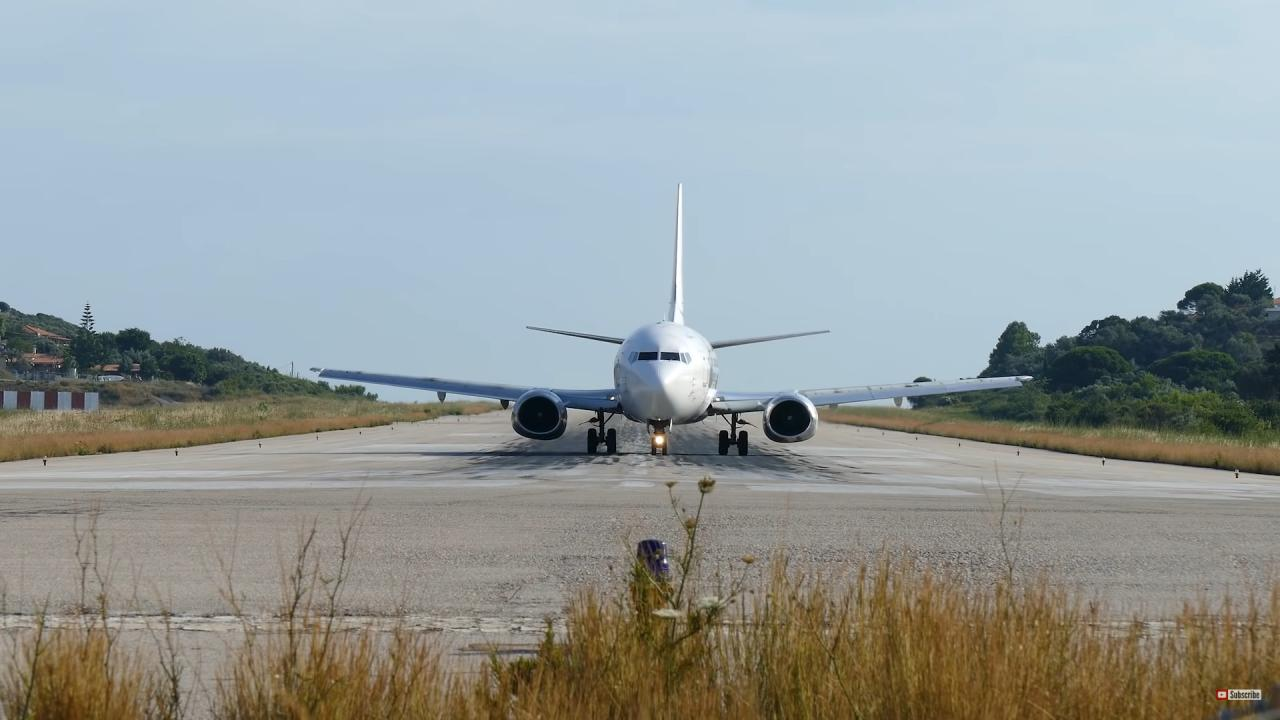Airplane: (303, 167, 1046, 466)
